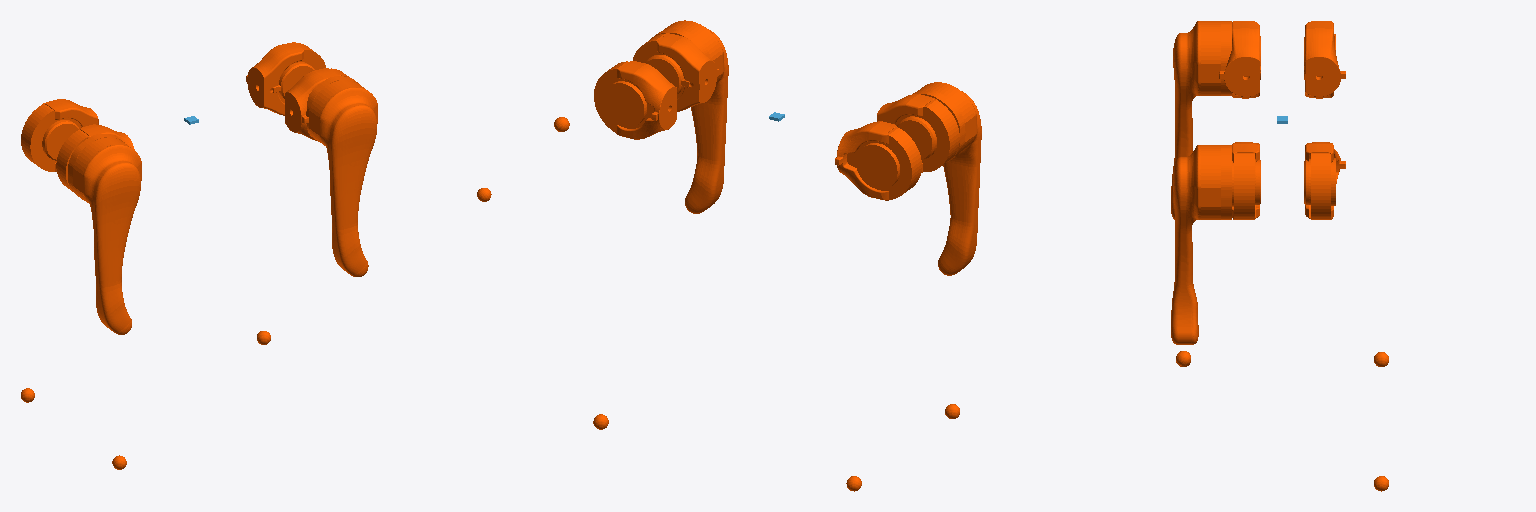
--- What the picture shows (computed from the rendered views, not written in the file) ---
3 views of the same robot in one strip: view 1: azimuth 30°, elevation 25°; view 2: azimuth 150°, elevation 25°; view 3: azimuth 270°, elevation 25° (orthographic).
Robot: robot — 18 links, 17 joints (3 revolute, 14 fixed); root link base; default pose: all joints at 0 but 1 set to mid-range because 0 is outside their limits (RF_KFE = -1.85).
Links seen in each view (by area): view 1: RH_thigh, RF_thigh, LH_hip, LF_hip, RF_hip, RH_hip; view 2: RH_thigh, RF_thigh, LF_hip, LH_hip, RH_hip, RF_hip; view 3: RF_thigh, RH_thigh, LF_hip, LH_hip, RH_hip, RF_hip.
Link boxes in pixels (bbox=[...]): RH_thigh: bbox=[68, 134, 141, 334]; RF_thigh: bbox=[306, 76, 377, 276]; LH_hip: bbox=[21, 99, 98, 171]; LF_hip: bbox=[246, 42, 325, 115]; RF_hip: bbox=[285, 68, 349, 140]; RH_hip: bbox=[56, 124, 134, 191]; RH_thigh: bbox=[913, 82, 981, 275]; RF_thigh: bbox=[651, 20, 728, 213]; LF_hip: bbox=[594, 61, 676, 139]; LH_hip: bbox=[835, 121, 921, 200]; RH_hip: bbox=[877, 94, 959, 172]; RF_hip: bbox=[633, 33, 718, 111]; RF_thigh: bbox=[1171, 145, 1231, 344]; RH_thigh: bbox=[1171, 21, 1231, 219]; LF_hip: bbox=[1304, 142, 1345, 219]; LH_hip: bbox=[1304, 21, 1345, 98]; RH_hip: bbox=[1219, 21, 1260, 98]; RF_hip: bbox=[1232, 142, 1260, 219].
Size in the robot's own frame: 0.6389 by 0.2802 by 0.485 metres.
6 mesh visuals loaded from 5 distinct referenced files (2 binary STL); not drawn: 7 (reference not matched to a file when rendering).

The robot description file, URDF, robot "robot":
<?xml version="1.0" ?>
<!-- =================================================================================== -->
<!-- |    This document was autogenerated by xacro from robot.xacro                    | -->
<!-- |    EDITING THIS FILE BY HAND IS NOT RECOMMENDED                                 | -->
<!-- =================================================================================== -->
<robot name="robot">
  <material name="black">
    <color rgba="0.0 0.0 0.0 1.0"/>
  </material>
  <material name="blue">
    <color rgba="0.0 0.0 0.8 1.0"/>
  </material>
  <material name="green">
    <color rgba="0.0 0.8 0.0 1.0"/>
  </material>
  <material name="grey">
    <color rgba="0.2 0.2 0.2 1.0"/>
  </material>
  <material name="silver">
    <color rgba="0.9137254901960784 0.9137254901960784 0.8470588235294118 1.0"/>
  </material>
  <material name="orange">
    <color rgba="1.0 0.4235294117647059 0.0392156862745098 1.0"/>
  </material>
  <material name="brown">
    <color rgba="0.8705882352941177 0.8117647058823529 0.7647058823529411 1.0"/>
  </material>
  <material name="red">
    <color rgba="0.8 0.0 0.0 1.0"/>
  </material>
  <material name="white">
    <color rgba="1.0 1.0 1.0 1.0"/>
  </material>
  <!-- ros_control plugin -->
  <gazebo>
    <plugin filename="liblegged_hw_sim.so" name="gazebo_ros_control">
      <robotNamespace>/</robotNamespace>
      <robotParam>legged_robot_description</robotParam>
      <robotSimType>legged_gazebo/LeggedHWSim</robotSimType>
    </plugin>
  </gazebo>
  <gazebo>
    <plugin filename="libgazebo_ros_p3d.so" name="p3d_base_controller">
      <alwaysOn>true</alwaysOn>
      <updateRate>1000.0</updateRate>
      <bodyName>base</bodyName>
      <topicName>ground_truth/state</topicName>
      <gaussianNoise>0</gaussianNoise>
      <frameName>world</frameName>
      <xyzOffsets>0 0 0</xyzOffsets>
      <rpyOffsets>0 0 0</rpyOffsets>
    </plugin>
  </gazebo>
  <gazebo reference="base_link">
    <maxVel>100.</maxVel>
    <kp>10000.</kp>
    <kd>0.</kd>
  </gazebo>
  <gazebo reference="stick_link">
    <mu1>0.2</mu1>
    <mu2>0.2</mu2>
    <material>Gazebo/White</material>
  </gazebo>
  <!-- LF leg -->
  <gazebo reference="LF_hip">
    <mu1>0.2</mu1>
    <mu2>0.2</mu2>
    <material>Gazebo/DarkGrey</material>
  </gazebo>
  <gazebo reference="LF_thigh">
    <mu1>0.2</mu1>
    <mu2>0.2</mu2>
    <self_collide>1</self_collide>
    <material>Gazebo/DarkGrey</material>
    <kp value="1000000.0"/>
    <kd value="1.0"/>
  </gazebo>
  <gazebo reference="LF_calf">
    <mu1>0.2</mu1>
    <mu2>0.2</mu2>
    <self_collide>1</self_collide>
  </gazebo>
  <gazebo reference="LF_FOOT">
    <mu1>0.6</mu1>
    <mu2>0.6</mu2>
    <self_collide>1</self_collide>
    <material>Gazebo/DarkGrey</material>
    <kp value="1000000.0"/>
    <kd value="100.0"/>
  </gazebo>
  <!-- RF leg -->
  <gazebo reference="RF_hip">
    <mu1>0.2</mu1>
    <mu2>0.2</mu2>
    <material>Gazebo/DarkGrey</material>
  </gazebo>
  <gazebo reference="RF_thigh">
    <mu1>0.2</mu1>
    <mu2>0.2</mu2>
    <self_collide>1</self_collide>
    <material>Gazebo/DarkGrey</material>
    <kp value="1000000.0"/>
    <kd value="1.0"/>
  </gazebo>
  <gazebo reference="RF_calf">
    <mu1>0.2</mu1>
    <mu2>0.2</mu2>
    <self_collide>1</self_collide>
  </gazebo>
  <gazebo reference="RF_FOOT">
    <mu1>0.6</mu1>
    <mu2>0.6</mu2>
    <self_collide>1</self_collide>
    <material>Gazebo/DarkGrey</material>
    <kp value="1000000.0"/>
    <kd value="1.0"/>
  </gazebo>
  <!-- LH leg -->
  <gazebo reference="LH_hip">
    <mu1>0.2</mu1>
    <mu2>0.2</mu2>
    <material>Gazebo/DarkGrey</material>
  </gazebo>
  <gazebo reference="LH_thigh">
    <mu1>0.2</mu1>
    <mu2>0.2</mu2>
    <self_collide>1</self_collide>
    <material>Gazebo/DarkGrey</material>
    <kp value="1000000.0"/>
    <kd value="1.0"/>
  </gazebo>
  <gazebo reference="LH_calf">
    <mu1>0.2</mu1>
    <mu2>0.2</mu2>
    <self_collide>1</self_collide>
  </gazebo>
  <gazebo reference="LH_FOOT">
    <mu1>0.6</mu1>
    <mu2>0.6</mu2>
    <self_collide>1</self_collide>
    <material>Gazebo/DarkGrey</material>
    <kp value="1000000.0"/>
    <kd value="1.0"/>
  </gazebo>
  <!-- RH leg -->
  <gazebo reference="RH_hip">
    <mu1>0.2</mu1>
    <mu2>0.2</mu2>
    <material>Gazebo/DarkGrey</material>
  </gazebo>
  <gazebo reference="RH_thigh">
    <mu1>0.2</mu1>
    <mu2>0.2</mu2>
    <self_collide>1</self_collide>
    <material>Gazebo/DarkGrey</material>
    <kp value="1000000.0"/>
    <kd value="1.0"/>
  </gazebo>
  <gazebo reference="RH_calf">
    <mu1>0.2</mu1>
    <mu2>0.2</mu2>
    <self_collide>1</self_collide>
  </gazebo>
  <gazebo reference="RH_FOOT">
    <mu1>0.6</mu1>
    <mu2>0.6</mu2>
    <self_collide>1</self_collide>
    <material>Gazebo/DarkGrey</material>
    <kp value="1000000.0"/>
    <kd value="1.0"/>
  </gazebo>
  <link name="base">
    <visual>
      <origin rpy="0 0 1.5707963267948966" xyz="0 0 0"/>
      <geometry>
        <mesh filename="package://meshes/go1/trunk.stl" scale="1 1 1"/>
      </geometry>
    </visual>
    <collision>
      <origin rpy="0 0 0" xyz="0 0 0"/>
      <geometry>
        <box size="0.3762 0.0935 0.114"/>
      </geometry>
    </collision>
    <inertial>
      <origin rpy="0 0 0" xyz="0.0223 0.002 -0.0005"/>
      <mass value="5.204"/>
      <inertia ixx="0.0168128557" ixy="-0.0002296769" ixz="-0.0002945293" iyy="0.063009565" iyz="-4.18731e-05" izz="0.0716547275"/>
    </inertial>
  </link>
  <!-- Imu is fixed to the base link -->
  <joint name="unitree_imu_joint" type="fixed">
    <origin rpy="0. 0. 0." xyz="0. 0. 0."/>
    <parent link="base"/>
    <child link="unitree_imu"/>
  </joint>
  <!-- Imu link -->
  <link name="unitree_imu">
    <inertial>
      <mass value="0.01"/>
      <origin rpy="0 0 0" xyz="0 0 0"/>
      <inertia ixx="0.000001" ixy="0" ixz="0" iyy="0.000001" iyz="0" izz="0.000001"/>
    </inertial>
    <visual>
      <origin rpy="0 0 0" xyz="0 0 0"/>
      <geometry>
        <box size="0.015 0.015 0.004"/>
      </geometry>
    </visual>
    <material name="orange">
      <color rgba="255 108 10 255"/>
    </material>
  </link>
  <gazebo reference="unitree_imu">
    <material>Gazebo/Orange</material>
  </gazebo>
  <gazebo reference="unitree_imu_joint">
    <disableFixedJointLumping>true</disableFixedJointLumping>
  </gazebo>
  <joint name="RF_HAA" type="revolute">
    <origin rpy="0 0 0" xyz="0.1881 -0.04675 0"/>
    <parent link="base"/>
    <child link="RF_hip"/>
    <axis xyz="1 0 0"/>
    <dynamics damping="0.01" friction="0.2"/>
    <limit effort="23.7" lower="-0.863" upper="0.863" velocity="30.1"/>
  </joint>
  <link name="RF_hip">
    <visual>
      <origin rpy="3.141592653589793 0 0" xyz="0 0 0"/>
      <geometry>
        <mesh filename="package://meshes/go1/hip.stl" scale="1 1 1"/>
      </geometry>
      <material name="orange"/>
    </visual>
    <collision>
      <origin rpy="1.5707963267948966 0 0" xyz="0 0 0"/>
      <geometry>
        <cylinder length="0.04" radius="0.046"/>
      </geometry>
    </collision>
    <inertial>
      <origin rpy="0 0 0" xyz="-0.005657 0.008752 -0.000102"/>
      <mass value="0.591"/>
      <inertia ixx="0.000334008405" ixy="1.0826066e-05" ixz="1.290732e-06" iyy="0.000619101213" iyz="-1.643194e-06" izz="0.00040057614"/>
    </inertial>
  </link>
  <joint name="RF_HFE" type="revolute">
    <origin rpy="0 0 0" xyz="0 -0.08 0"/>
    <parent link="RF_hip"/>
    <child link="RF_thigh"/>
    <axis xyz="0 1 0"/>
    <dynamics damping="0.01" friction="0.2"/>
    <limit effort="23.7" lower="-0.686" upper="4.501" velocity="30.1"/>
  </joint>
  <link name="RF_thigh">
    <visual>
      <origin rpy="0 0 0" xyz="0 0 0"/>
      <geometry>
        <mesh filename="package://meshes/go1/thigh_mirror.stl" scale="1 1 1"/>
      </geometry>
      <material name="orange"/>
    </visual>
    <!--collision>
                <origin rpy="0 ${pi/2.0+0.1} 0" xyz="${thigh_x_offset} 0 ${-thigh_length/2.0}"/>
                <geometry>
                    <box size="${thigh_length} ${thigh_width} ${thigh_height}"/>
                </geometry>
            </collision>
            <collision>
                <origin rpy="${pi/2.0} 0 0" xyz="0 ${mirror*thigh_shoulder_y_offset} 0"/>
                <geometry>
                    <cylinder length="${thigh_shoulder_length}" radius="${thigh_shoulder_radius}"/>
                </geometry>
            </collision-->
    <collision>
      <origin rpy="0 1.5707963267948966 0" xyz="0 0 -0.1065"/>
      <geometry>
        <box size="0.213 0.0245 0.034"/>
      </geometry>
    </collision>
    <inertial>
      <origin rpy="0 0 0" xyz="-0.003342 0.018054 -0.033451"/>
      <mass value="0.92"/>
      <inertia ixx="0.004431760472" ixy="-5.7496807e-05" ixz="-0.000218457134" iyy="0.004485671726" iyz="-0.000572001265" izz="0.000740309489"/>
    </inertial>
  </link>
  <joint name="RF_KFE" type="revolute">
    <origin rpy="0 0 0" xyz="0 0 -0.213"/>
    <parent link="RF_thigh"/>
    <child link="RF_calf"/>
    <axis xyz="0 1 0"/>
    <dynamics damping="0.01" friction="0.2"/>
    <limit effort="35.55" lower="-2.818" upper="-0.888" velocity="20.06"/>
  </joint>
  <link name="RF_calf">
    <visual>
      <origin rpy="0 0 0" xyz="0 0 0"/>
      <geometry>
        <mesh filename="package://meshes/go1/calf.stl" scale="1 1 1"/>
      </geometry>
      <material name="orange"/>
    </visual>
    <collision>
      <origin rpy="0 1.5707963267948966 0" xyz="0 0 -0.1065"/>
      <geometry>
        <box size="0.213 0.016 0.016"/>
      </geometry>
    </collision>
    <inertial>
      <origin rpy="0 0 0" xyz="0.006197 0.001408 -0.116695"/>
      <mass value="0.135862"/>
      <inertia ixx="0.001088793059" ixy="-2.55679e-07" ixz="7.117814e-06" iyy="0.001100428748" iyz="2.077264e-06" izz="2.4787446e-05"/>
    </inertial>
  </link>
  <joint name="RF_foot_fixed" type="fixed">
    <origin rpy="0 0 0" xyz="0 0 -0.213"/>
    <parent link="RF_calf"/>
    <child link="RF_FOOT"/>
  </joint>
  <link name="RF_FOOT">
    <visual>
      <origin rpy="0 0 0" xyz="0 0 0"/>
      <geometry>
        <sphere radius="0.01"/>
      </geometry>
      <material name="orange"/>
    </visual>
    <collision>
      <origin rpy="0 0 0" xyz="0 0 0"/>
      <geometry>
        <sphere radius="0.02"/>
      </geometry>
    </collision>
    <inertial>
      <mass value="0.06"/>
      <inertia ixx="9.600000000000001e-06" ixy="0.0" ixz="0.0" iyy="9.600000000000001e-06" iyz="0.0" izz="9.600000000000001e-06"/>
    </inertial>
  </link>
  <gazebo reference="RF_foot_fixed">
    <disableFixedJointLumping>true</disableFixedJointLumping>
  </gazebo>
  <transmission name="RF_HAA_tran">
    <type>transmission_interface/SimpleTransmission</type>
    <joint name="RF_HAA">
      <hardwareInterface>hardware_interface/EffortJointInterface</hardwareInterface>
    </joint>
    <actuator name="RF_HAA_motor">
      <hardwareInterface>hardware_interface/EffortJointInterface</hardwareInterface>
      <mechanicalReduction>1</mechanicalReduction>
    </actuator>
  </transmission>
  <transmission name="RF_HFE_tran">
    <type>transmission_interface/SimpleTransmission</type>
    <joint name="RF_HFE">
      <hardwareInterface>hardware_interface/EffortJointInterface</hardwareInterface>
    </joint>
    <actuator name="RF_HFE_motor">
      <hardwareInterface>hardware_interface/EffortJointInterface</hardwareInterface>
      <mechanicalReduction>1</mechanicalReduction>
    </actuator>
  </transmission>
  <transmission name="RF_KFE_tran">
    <type>transmission_interface/SimpleTransmission</type>
    <joint name="RF_KFE">
      <hardwareInterface>hardware_interface/EffortJointInterface</hardwareInterface>
    </joint>
    <actuator name="RF_KFE_motor">
      <hardwareInterface>hardware_interface/EffortJointInterface</hardwareInterface>
      <mechanicalReduction>1</mechanicalReduction>
    </actuator>
  </transmission>
  <joint name="LF_HAA" type="fixed">
    <origin rpy="0 0 0" xyz="0.1881 0.04675 0"/>
    <parent link="base"/>
    <child link="LF_hip"/>
    <axis xyz="1 0 0"/>
    <dynamics damping="0.01" friction="0.2"/>
    <limit effort="23.7" lower="-0.863" upper="0.863" velocity="30.1"/>
  </joint>
  <link name="LF_hip">
    <visual>
      <origin rpy="0 0 0" xyz="0 0 0"/>
      <geometry>
        <mesh filename="package://meshes/go1/hip.stl" scale="1 1 1"/>
      </geometry>
      <material name="orange"/>
    </visual>
    <collision>
      <origin rpy="1.5707963267948966 0 0" xyz="0 0 0"/>
      <geometry>
        <cylinder length="0.04" radius="0.046"/>
      </geometry>
    </collision>
    <inertial>
      <origin rpy="0 0 0" xyz="-0.005657 -0.008752 -0.000102"/>
      <mass value="0.591"/>
      <inertia ixx="0.000334008405" ixy="-1.0826066e-05" ixz="1.290732e-06" iyy="0.000619101213" iyz="1.643194e-06" izz="0.00040057614"/>
    </inertial>
  </link>
  <joint name="LF_HFE" type="fixed">
    <origin rpy="0 0 0" xyz="0 0.08 0"/>
    <parent link="LF_hip"/>
    <child link="LF_thigh"/>
    <axis xyz="0 1 0"/>
    <dynamics damping="0.01" friction="0.2"/>
    <limit effort="23.7" lower="-0.686" upper="4.501" velocity="30.1"/>
  </joint>
  <link name="LF_thigh">
    <visual>
      <origin rpy="0 0 0" xyz="0 0 0"/>
      <geometry>
        <mesh filename="package://meshes/go1/thigh.stl" scale="1 1 1"/>
      </geometry>
      <material name="orange"/>
    </visual>
    <!--collision>
                <origin rpy="0 ${pi/2.0+0.1} 0" xyz="${thigh_x_offset} 0 ${-thigh_length/2.0}"/>
                <geometry>
                    <box size="${thigh_length} ${thigh_width} ${thigh_height}"/>
                </geometry>
            </collision>
            <collision>
                <origin rpy="${pi/2.0} 0 0" xyz="0 ${mirror*thigh_shoulder_y_offset} 0"/>
                <geometry>
                    <cylinder length="${thigh_shoulder_length}" radius="${thigh_shoulder_radius}"/>
                </geometry>
            </collision-->
    <collision>
      <origin rpy="0 1.5707963267948966 0" xyz="0 0 -0.1065"/>
      <geometry>
        <box size="0.213 0.0245 0.034"/>
      </geometry>
    </collision>
    <inertial>
      <origin rpy="0 0 0" xyz="-0.003342 -0.018054 -0.033451"/>
      <mass value="0.92"/>
      <inertia ixx="0.004431760472" ixy="5.7496807e-05" ixz="-0.000218457134" iyy="0.004485671726" iyz="0.000572001265" izz="0.000740309489"/>
    </inertial>
  </link>
  <joint name="LF_KFE" type="fixed">
    <origin rpy="0 0 0" xyz="0 0 -0.213"/>
    <parent link="LF_thigh"/>
    <child link="LF_calf"/>
    <axis xyz="0 1 0"/>
    <dynamics damping="0.01" friction="0.2"/>
    <limit effort="35.55" lower="-2.818" upper="-0.888" velocity="20.06"/>
  </joint>
  <link name="LF_calf">
    <visual>
      <origin rpy="0 0 0" xyz="0 0 0"/>
      <geometry>
        <mesh filename="package://meshes/go1/calf.stl" scale="1 1 1"/>
      </geometry>
      <material name="orange"/>
    </visual>
    <collision>
      <origin rpy="0 1.5707963267948966 0" xyz="0 0 -0.1065"/>
      <geometry>
        <box size="0.213 0.016 0.016"/>
      </geometry>
    </collision>
    <inertial>
      <origin rpy="0 0 0" xyz="0.006197 0.001408 -0.116695"/>
      <mass value="0.135862"/>
      <inertia ixx="0.001088793059" ixy="-2.55679e-07" ixz="7.117814e-06" iyy="0.001100428748" iyz="2.077264e-06" izz="2.4787446e-05"/>
    </inertial>
  </link>
  <joint name="LF_foot_fixed" type="fixed">
    <origin rpy="0 0 0" xyz="0 0 -0.213"/>
    <parent link="LF_calf"/>
    <child link="LF_FOOT"/>
  </joint>
  <link name="LF_FOOT">
    <visual>
      <origin rpy="0 0 0" xyz="0 0 0"/>
      <geometry>
        <sphere radius="0.01"/>
      </geometry>
      <material name="orange"/>
    </visual>
    <collision>
      <origin rpy="0 0 0" xyz="0 0 0"/>
      <geometry>
        <sphere radius="0.02"/>
      </geometry>
    </collision>
    <inertial>
      <mass value="0.06"/>
      <inertia ixx="9.600000000000001e-06" ixy="0.0" ixz="0.0" iyy="9.600000000000001e-06" iyz="0.0" izz="9.600000000000001e-06"/>
    </inertial>
  </link>
  <gazebo reference="LF_foot_fixed">
    <disableFixedJointLumping>true</disableFixedJointLumping>
  </gazebo>
  <transmission name="LF_HAA_tran">
    <type>transmission_interface/SimpleTransmission</type>
    <joint name="LF_HAA">
      <hardwareInterface>hardware_interface/EffortJointInterface</hardwareInterface>
    </joint>
    <actuator name="LF_HAA_motor">
      <hardwareInterface>hardware_interface/EffortJointInterface</hardwareInterface>
      <mechanicalReduction>1</mechanicalReduction>
    </actuator>
  </transmission>
  <transmission name="LF_HFE_tran">
    <type>transmission_interface/SimpleTransmission</type>
    <joint name="LF_HFE">
      <hardwareInterface>hardware_interface/EffortJointInterface</hardwareInterface>
    </joint>
    <actuator name="LF_HFE_motor">
      <hardwareInterface>hardware_interface/EffortJointInterface</hardwareInterface>
      <mechanicalReduction>1</mechanicalReduction>
    </actuator>
  </transmission>
  <transmission name="LF_KFE_tran">
    <type>transmission_interface/SimpleTransmission</type>
    <joint name="LF_KFE">
      <hardwareInterface>hardware_interface/EffortJointInterface</hardwareInterface>
    </joint>
    <actuator name="LF_KFE_motor">
      <hardwareInterface>hardware_interface/EffortJointInterface</hardwareInterface>
      <mechanicalReduction>1</mechanicalReduction>
    </actuator>
  </transmission>
  <joint name="RH_HAA" type="fixed">
    <origin rpy="0 0 0" xyz="-0.1881 -0.04675 0"/>
    <parent link="base"/>
    <child link="RH_hip"/>
    <axis xyz="1 0 0"/>
    <dynamics damping="0.01" friction="0.2"/>
    <limit effort="23.7" lower="-0.863" upper="0.863" velocity="30.1"/>
  </joint>
  <link name="RH_hip">
    <visual>
      <origin rpy="3.141592653589793 3.141592653589793 0" xyz="0 0 0"/>
      <geometry>
        <mesh filename="package://meshes/go1/hip.stl" scale="1 1 1"/>
      </geometry>
      <material name="orange"/>
    </visual>
    <collision>
      <origin rpy="1.5707963267948966 0 0" xyz="0 0 0"/>
      <geometry>
        <cylinder length="0.04" radius="0.046"/>
      </geometry>
    </collision>
    <inertial>
      <origin rpy="0 0 0" xyz="0.005657 0.008752 -0.000102"/>
      <mass value="0.591"/>
      <inertia ixx="0.000334008405" ixy="-1.0826066e-05" ixz="-1.290732e-06" iyy="0.000619101213" iyz="-1.643194e-06" izz="0.00040057614"/>
    </inertial>
  </link>
  <joint name="RH_HFE" type="fixed">
    <origin rpy="0 0 0" xyz="0 -0.08 0"/>
    <parent link="RH_hip"/>
    <child link="RH_thigh"/>
    <axis xyz="0 1 0"/>
    <dynamics damping="0.01" friction="0.2"/>
    <limit effort="23.7" lower="-0.686" upper="4.501" velocity="30.1"/>
  </joint>
  <link name="RH_thigh">
    <visual>
      <origin rpy="0 0 0" xyz="0 0 0"/>
      <geometry>
        <mesh filename="package://meshes/go1/thigh_mirror.stl" scale="1 1 1"/>
      </geometry>
      <material name="orange"/>
    </visual>
    <!--collision>
                <origin rpy="0 ${pi/2.0+0.1} 0" xyz="${thigh_x_offset} 0 ${-thigh_length/2.0}"/>
                <geometry>
                    <box size="${thigh_length} ${thigh_width} ${thigh_height}"/>
                </geometry>
            </collision>
            <collision>
                <origin rpy="${pi/2.0} 0 0" xyz="0 ${mirror*thigh_shoulder_y_offset} 0"/>
                <geometry>
                    <cylinder length="${thigh_shoulder_length}" radius="${thigh_shoulder_radius}"/>
                </geometry>
            </collision-->
    <collision>
      <origin rpy="0 1.5707963267948966 0" xyz="0 0 -0.1065"/>
      <geometry>
        <box size="0.213 0.0245 0.034"/>
      </geometry>
    </collision>
    <inertial>
      <origin rpy="0 0 0" xyz="-0.003342 0.018054 -0.033451"/>
      <mass value="0.92"/>
      <inertia ixx="0.004431760472" ixy="-5.7496807e-05" ixz="-0.000218457134" iyy="0.004485671726" iyz="-0.000572001265" izz="0.000740309489"/>
    </inertial>
  </link>
  <joint name="RH_KFE" type="fixed">
    <origin rpy="0 0 0" xyz="0 0 -0.213"/>
    <parent link="RH_thigh"/>
    <child link="RH_calf"/>
    <axis xyz="0 1 0"/>
    <dynamics damping="0.01" friction="0.2"/>
    <limit effort="35.55" lower="-2.818" upper="-0.888" velocity="20.06"/>
  </joint>
  <link name="RH_calf">
    <visual>
      <origin rpy="0 0 0" xyz="0 0 0"/>
      <geometry>
        <mesh filename="package://meshes/go1/calf.stl" scale="1 1 1"/>
      </geometry>
      <material name="orange"/>
    </visual>
    <collision>
      <origin rpy="0 1.5707963267948966 0" xyz="0 0 -0.1065"/>
      <geometry>
        <box size="0.213 0.016 0.016"/>
      </geometry>
    </collision>
    <inertial>
      <origin rpy="0 0 0" xyz="0.006197 0.001408 -0.116695"/>
      <mass value="0.135862"/>
      <inertia ixx="0.001088793059" ixy="-2.55679e-07" ixz="7.117814e-06" iyy="0.001100428748" iyz="2.077264e-06" izz="2.4787446e-05"/>
    </inertial>
  </link>
  <joint name="RH_foot_fixed" type="fixed">
    <origin rpy="0 0 0" xyz="0 0 -0.213"/>
    <parent link="RH_calf"/>
    <child link="RH_FOOT"/>
  </joint>
  <link name="RH_FOOT">
    <visual>
      <origin rpy="0 0 0" xyz="0 0 0"/>
      <geometry>
        <sphere radius="0.01"/>
      </geometry>
      <material name="orange"/>
    </visual>
    <collision>
      <origin rpy="0 0 0" xyz="0 0 0"/>
      <geometry>
        <sphere radius="0.02"/>
      </geometry>
    </collision>
    <inertial>
      <mass value="0.06"/>
      <inertia ixx="9.600000000000001e-06" ixy="0.0" ixz="0.0" iyy="9.600000000000001e-06" iyz="0.0" izz="9.600000000000001e-06"/>
    </inertial>
  </link>
  <gazebo reference="RH_foot_fixed">
    <disableFixedJointLumping>true</disableFixedJointLumping>
  </gazebo>
  <transmission name="RH_HAA_tran">
    <type>transmission_interface/SimpleTransmission</type>
    <joint name="RH_HAA">
      <hardwareInterface>hardware_interface/EffortJointInterface</hardwareInterface>
    </joint>
    <actuator name="RH_HAA_motor">
      <hardwareInterface>hardware_interface/EffortJointInterface</hardwareInterface>
      <mechanicalReduction>1</mechanicalReduction>
    </actuator>
  </transmission>
  <transmission name="RH_HFE_tran">
    <type>transmission_interface/SimpleTransmission</type>
    <joint name="RH_HFE">
      <hardwareInterface>hardware_interface/EffortJointInterface</hardwareInterface>
    </joint>
    <actuator name="RH_HFE_motor">
      <hardwareInterface>hardware_interface/EffortJointInterface</hardwareInterface>
      <mechanicalReduction>1</mechanicalReduction>
    </actuator>
  </transmission>
  <transmission name="RH_KFE_tran">
    <type>transmission_interface/SimpleTransmission</type>
    <joint name="RH_KFE">
      <hardwareInterface>hardware_interface/EffortJointInterface</hardwareInterface>
    </joint>
    <actuator name="RH_KFE_motor">
      <hardwareInterface>hardware_interface/EffortJointInterface</hardwareInterface>
      <mechanicalReduction>1</mechanicalReduction>
    </actuator>
  </transmission>
  <joint name="LH_HAA" type="fixed">
    <origin rpy="0 0 0" xyz="-0.1881 0.04675 0"/>
    <parent link="base"/>
    <child link="LH_hip"/>
    <axis xyz="1 0 0"/>
    <dynamics damping="0.01" friction="0.2"/>
    <limit effort="23.7" lower="-0.863" upper="0.863" velocity="30.1"/>
  </joint>
  <link name="LH_hip">
    <visual>
      <origin rpy="0 3.141592653589793 0" xyz="0 0 0"/>
      <geometry>
        <mesh filename="package://meshes/go1/hip.stl" scale="1 1 1"/>
      </geometry>
      <material name="orange"/>
    </visual>
    <collision>
      <origin rpy="1.5707963267948966 0 0" xyz="0 0 0"/>
      <geometry>
        <cylinder length="0.04" radius="0.046"/>
      </geometry>
    </collision>
    <inertial>
      <origin rpy="0 0 0" xyz="0.005657 -0.008752 -0.000102"/>
      <mass value="0.591"/>
      <inertia ixx="0.000334008405" ixy="1.0826066e-05" ixz="-1.290732e-06" iyy="0.000619101213" iyz="1.643194e-06" izz="0.00040057614"/>
    </inertial>
  </link>
  <joint name="LH_HFE" type="fixed">
    <origin rpy="0 0 0" xyz="0 0.08 0"/>
    <parent link="LH_hip"/>
    <child link="LH_thigh"/>
    <axis xyz="0 1 0"/>
    <dynamics damping="0.01" friction="0.2"/>
    <limit effort="23.7" lower="-0.686" upper="4.501" velocity="30.1"/>
  </joint>
  <link name="LH_thigh">
    <visual>
      <origin rpy="0 0 0" xyz="0 0 0"/>
      <geometry>
        <mesh filename="package://meshes/go1/thigh.stl" scale="1 1 1"/>
      </geometry>
      <material name="orange"/>
    </visual>
    <!--collision>
                <origin rpy="0 ${pi/2.0+0.1} 0" xyz="${thigh_x_offset} 0 ${-thigh_length/2.0}"/>
                <geometry>
                    <box size="${thigh_length} ${thigh_width} ${thigh_height}"/>
                </geometry>
            </collision>
            <collision>
                <origin rpy="${pi/2.0} 0 0" xyz="0 ${mirror*thigh_shoulder_y_offset} 0"/>
                <geometry>
                    <cylinder length="${thigh_shoulder_length}" radius="${thigh_shoulder_radius}"/>
                </geometry>
            </collision-->
    <collision>
      <origin rpy="0 1.5707963267948966 0" xyz="0 0 -0.1065"/>
      <geometry>
        <box size="0.213 0.0245 0.034"/>
      </geometry>
    </collision>
    <inertial>
      <origin rpy="0 0 0" xyz="-0.003342 -0.018054 -0.033451"/>
      <mass value="0.92"/>
      <inertia ixx="0.004431760472" ixy="5.7496807e-05" ixz="-0.000218457134" iyy="0.004485671726" iyz="0.000572001265" izz="0.000740309489"/>
    </inertial>
  </link>
  <joint name="LH_KFE" type="fixed">
    <origin rpy="0 0 0" xyz="0 0 -0.213"/>
    <parent link="LH_thigh"/>
    <child link="LH_calf"/>
    <axis xyz="0 1 0"/>
    <dynamics damping="0.01" friction="0.2"/>
    <limit effort="35.55" lower="-2.818" upper="-0.888" velocity="20.06"/>
  </joint>
  <link name="LH_calf">
    <visual>
      <origin rpy="0 0 0" xyz="0 0 0"/>
      <geometry>
        <mesh filename="package://meshes/go1/calf.stl" scale="1 1 1"/>
      </geometry>
      <material name="orange"/>
    </visual>
    <collision>
      <origin rpy="0 1.5707963267948966 0" xyz="0 0 -0.1065"/>
      <geometry>
        <box size="0.213 0.016 0.016"/>
      </geometry>
    </collision>
    <inertial>
      <origin rpy="0 0 0" xyz="0.006197 0.001408 -0.116695"/>
      <mass value="0.135862"/>
      <inertia ixx="0.001088793059" ixy="-2.55679e-07" ixz="7.117814e-06" iyy="0.001100428748" iyz="2.077264e-06" izz="2.4787446e-05"/>
    </inertial>
  </link>
  <joint name="LH_foot_fixed" type="fixed">
    <origin rpy="0 0 0" xyz="0 0 -0.213"/>
    <parent link="LH_calf"/>
    <child link="LH_FOOT"/>
  </joint>
  <link name="LH_FOOT">
    <visual>
      <origin rpy="0 0 0" xyz="0 0 0"/>
      <geometry>
        <sphere radius="0.01"/>
      </geometry>
      <material name="orange"/>
    </visual>
    <collision>
      <origin rpy="0 0 0" xyz="0 0 0"/>
      <geometry>
        <sphere radius="0.02"/>
      </geometry>
    </collision>
    <inertial>
      <mass value="0.06"/>
      <inertia ixx="9.600000000000001e-06" ixy="0.0" ixz="0.0" iyy="9.600000000000001e-06" iyz="0.0" izz="9.600000000000001e-06"/>
    </inertial>
  </link>
  <gazebo reference="LH_foot_fixed">
    <disableFixedJointLumping>true</disableFixedJointLumping>
  </gazebo>
  <transmission name="LH_HAA_tran">
    <type>transmission_interface/SimpleTransmission</type>
    <joint name="LH_HAA">
      <hardwareInterface>hardware_interface/EffortJointInterface</hardwareInterface>
    </joint>
    <actuator name="LH_HAA_motor">
      <hardwareInterface>hardware_interface/EffortJointInterface</hardwareInterface>
      <mechanicalReduction>1</mechanicalReduction>
    </actuator>
  </transmission>
  <transmission name="LH_HFE_tran">
    <type>transmission_interface/SimpleTransmission</type>
    <joint name="LH_HFE">
      <hardwareInterface>hardware_interface/EffortJointInterface</hardwareInterface>
    </joint>
    <actuator name="LH_HFE_motor">
      <hardwareInterface>hardware_interface/EffortJointInterface</hardwareInterface>
      <mechanicalReduction>1</mechanicalReduction>
    </actuator>
  </transmission>
  <transmission name="LH_KFE_tran">
    <type>transmission_interface/SimpleTransmission</type>
    <joint name="LH_KFE">
      <hardwareInterface>hardware_interface/EffortJointInterface</hardwareInterface>
    </joint>
    <actuator name="LH_KFE_motor">
      <hardwareInterface>hardware_interface/EffortJointInterface</hardwareInterface>
      <mechanicalReduction>1</mechanicalReduction>
    </actuator>
  </transmission>
</robot>
